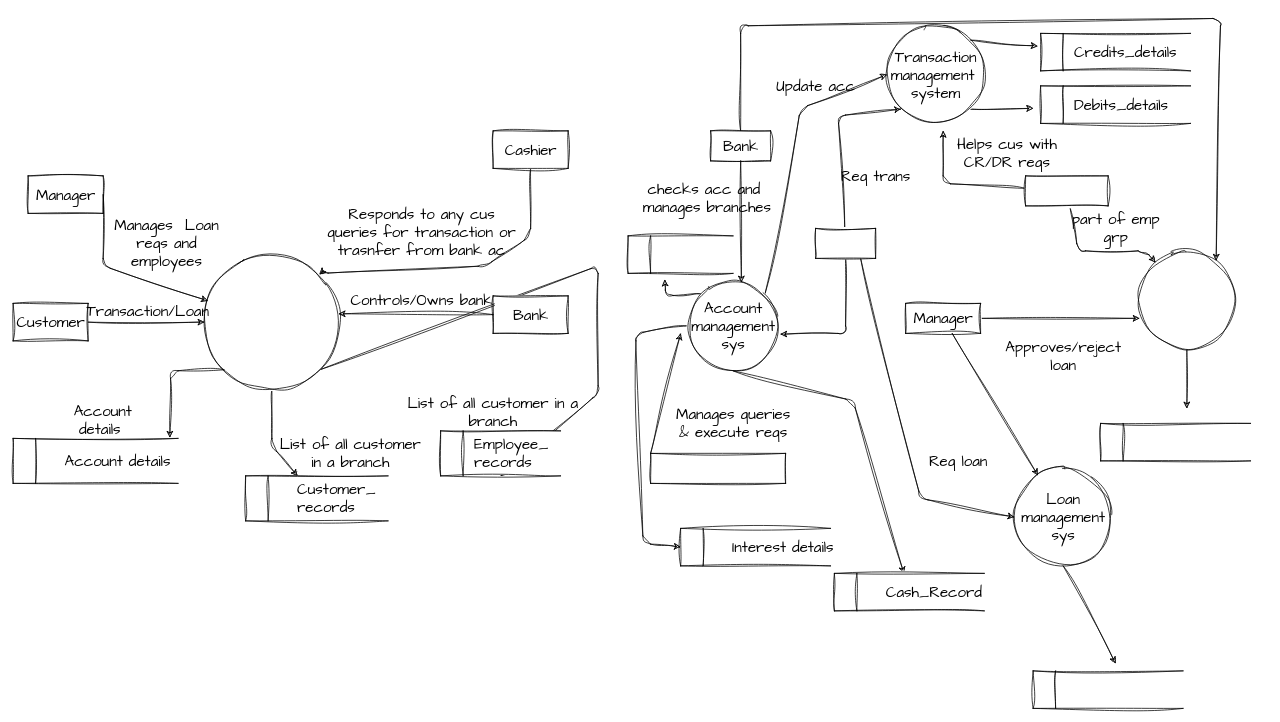
Image size: 1280x722. Some labels were removed from this diagram. Each missing label, with the box of its shape:
Acc Details: (627, 235, 733, 273)
Accountant: (1025, 175, 1108, 206)
Accountatn/Cashier: (650, 453, 786, 483)
Banking System: (204, 254, 339, 390)
Cus: (815, 228, 876, 258)
Employee_records: (1100, 423, 1251, 461)
Loan_details: (1032, 670, 1183, 708)
Online banking sys: (1137, 250, 1236, 348)
